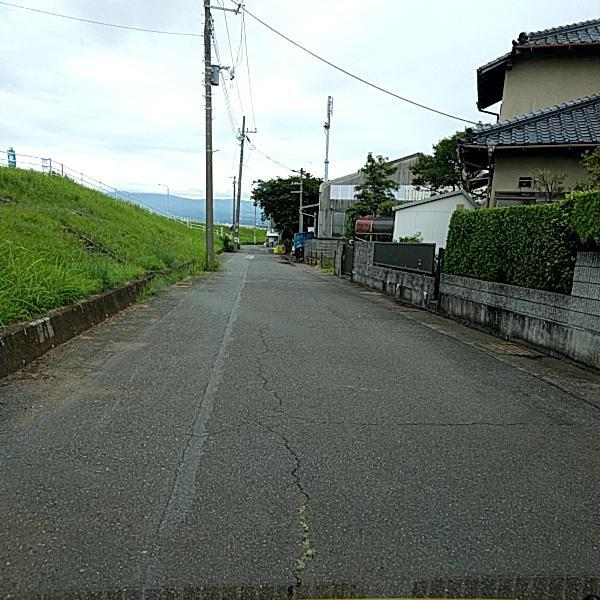D10: (264, 427, 317, 599), (302, 413, 577, 432), (249, 322, 282, 414)
